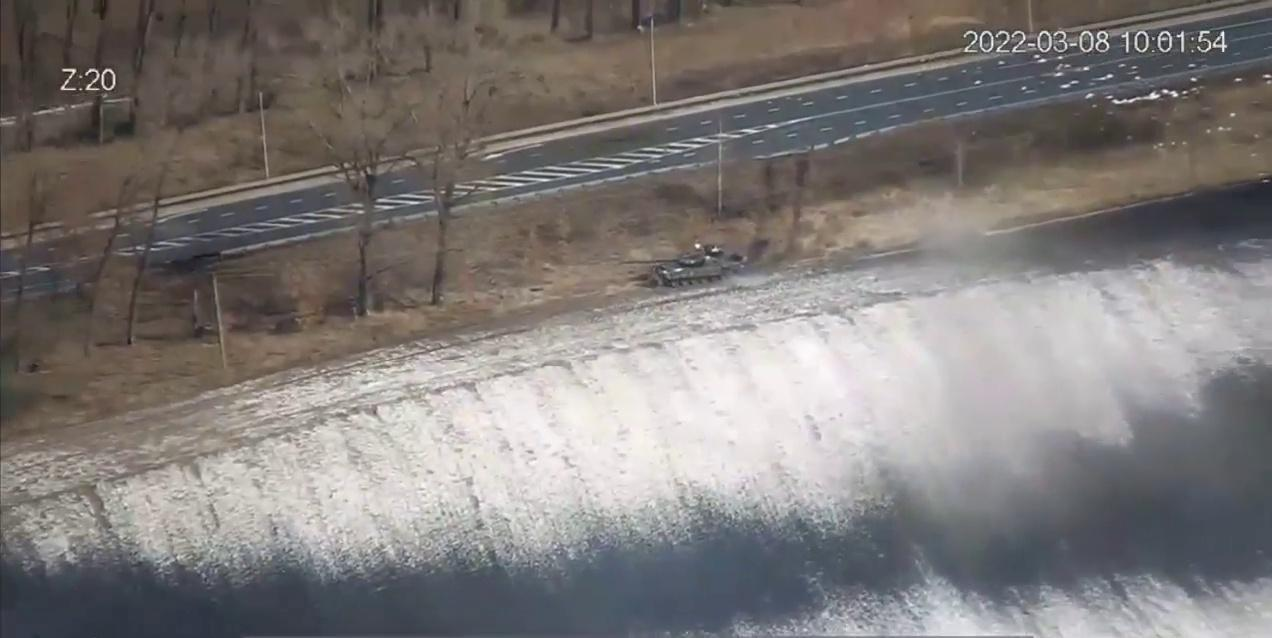tank: (621, 251, 723, 288)
